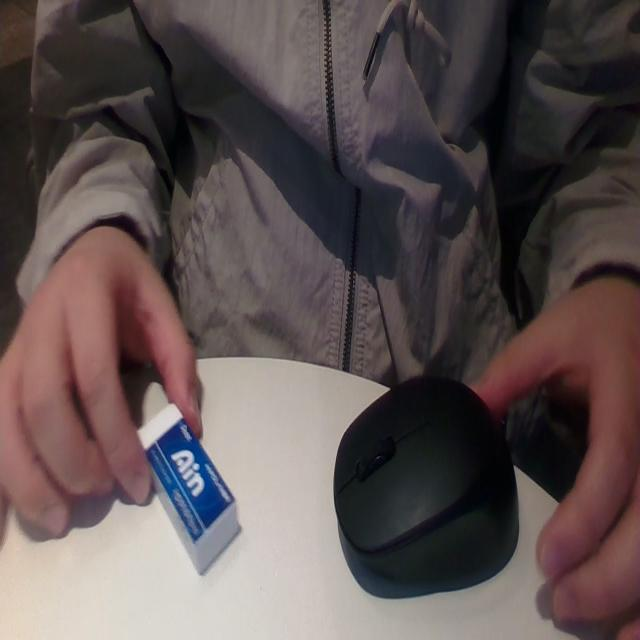grab_eraser: (7, 277, 274, 613)
mouse: (327, 374, 535, 592)
